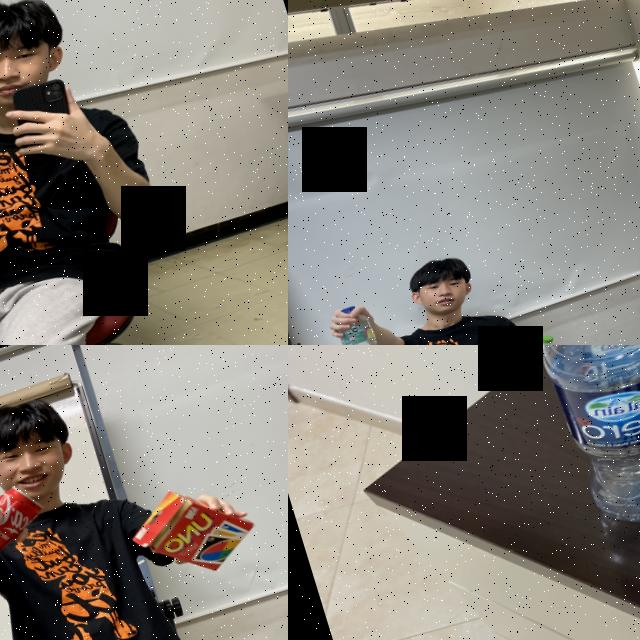bottle: (501, 345, 640, 546), (328, 299, 393, 345)
can: (0, 478, 60, 596)
